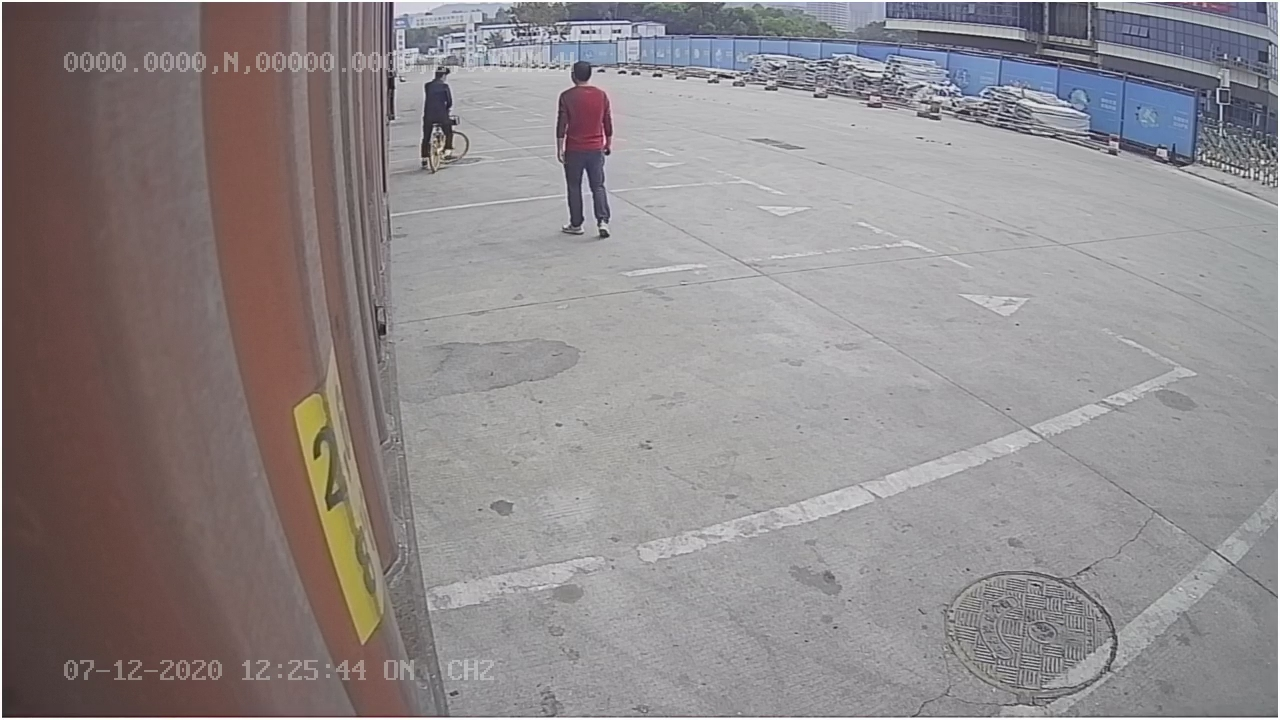person: (551, 56, 618, 241)
